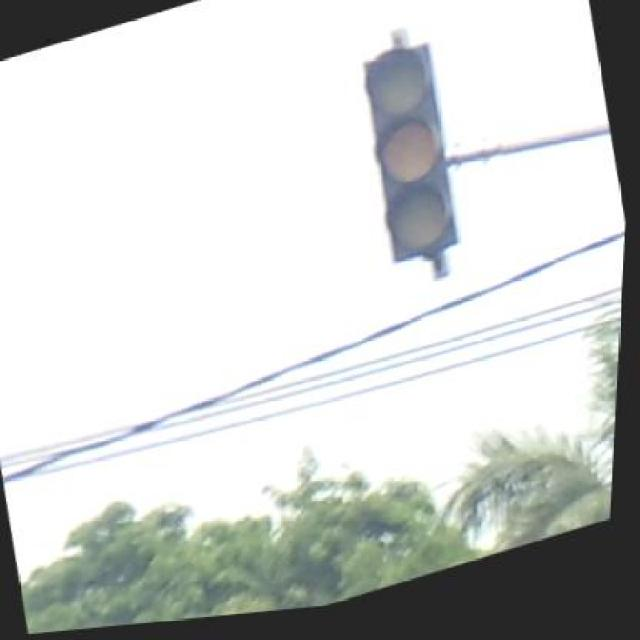yellow_light: (348, 43, 472, 280)
